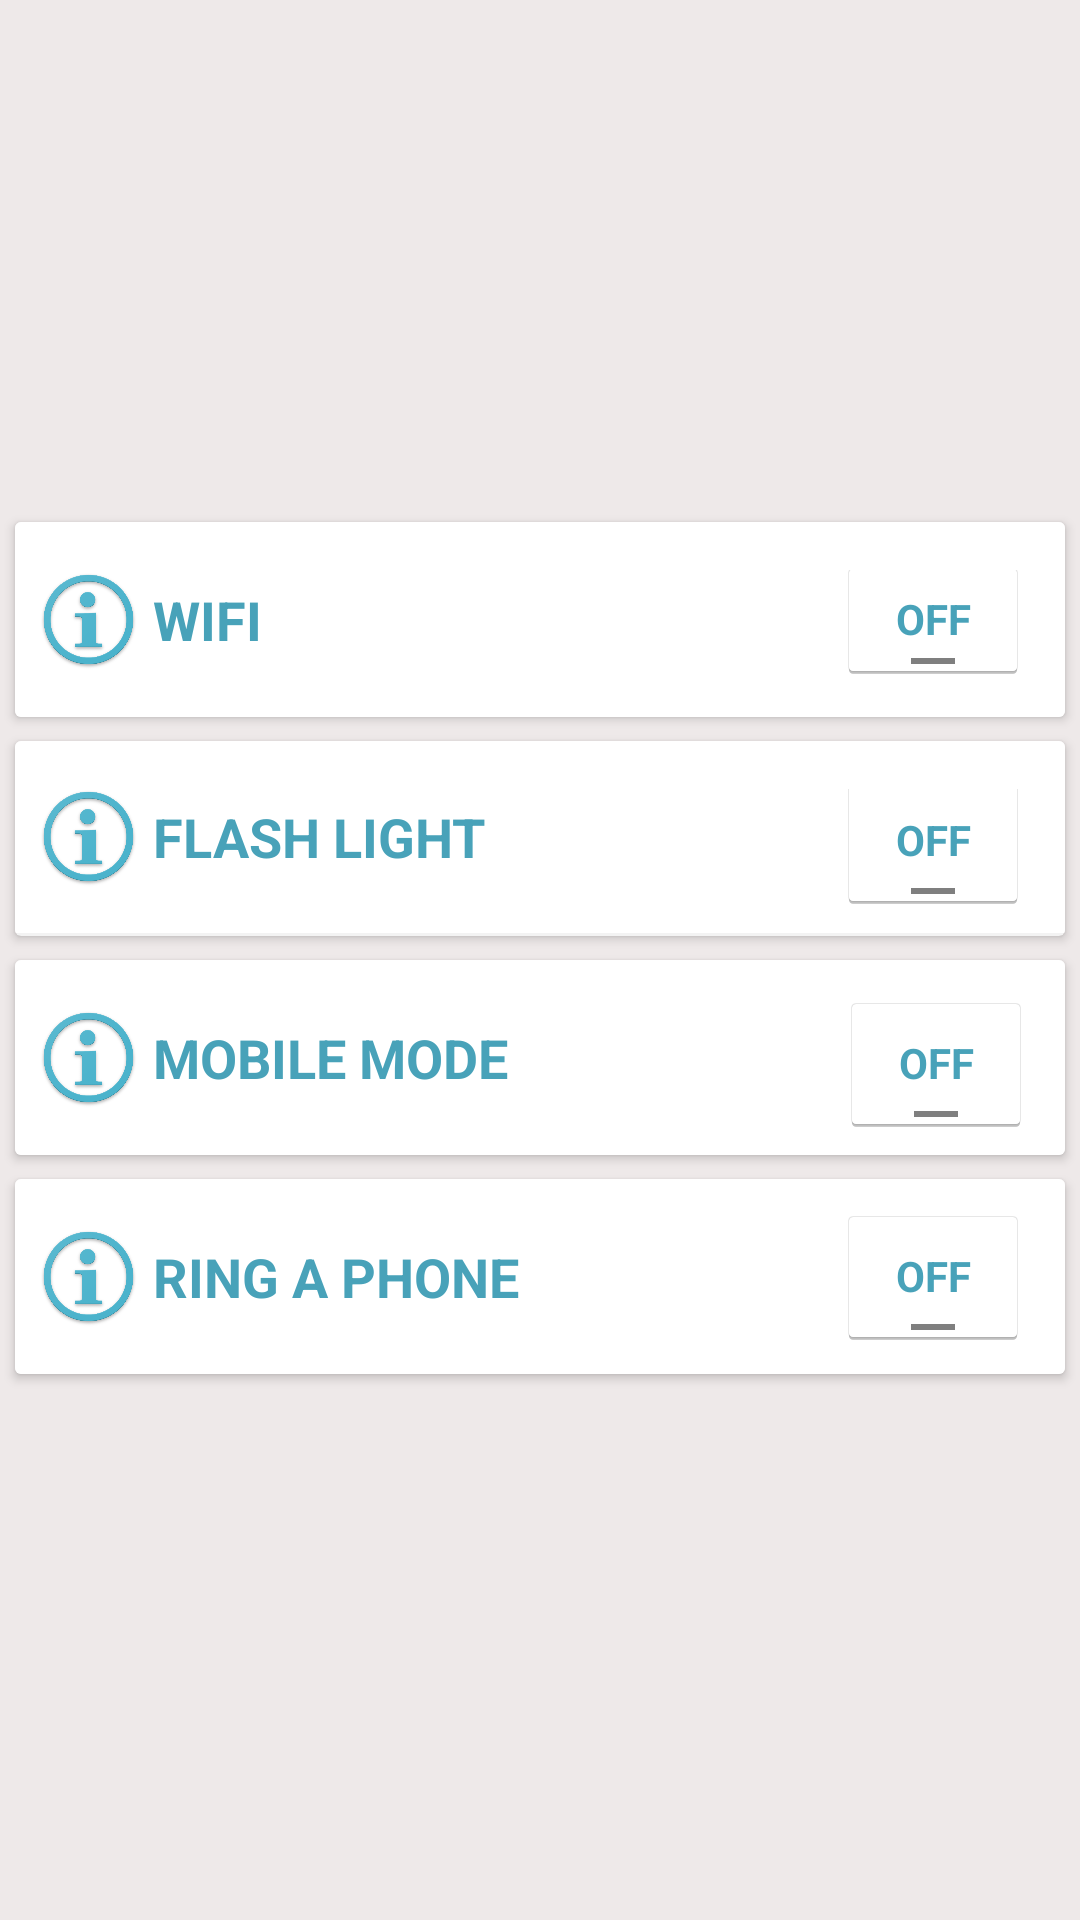

Icon bounding boxes for this 1080×1920 phone screenshot, format (x1, y1, x2, y2):
info details: (43, 575, 134, 667), (43, 792, 134, 884), (43, 1013, 134, 1105), (43, 1232, 134, 1324)
